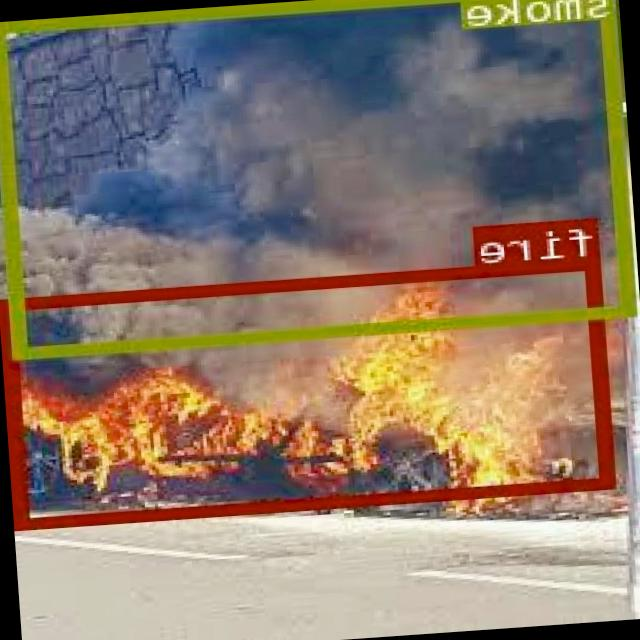fire: (4, 256, 618, 526)
smoke: (0, 0, 639, 355)
